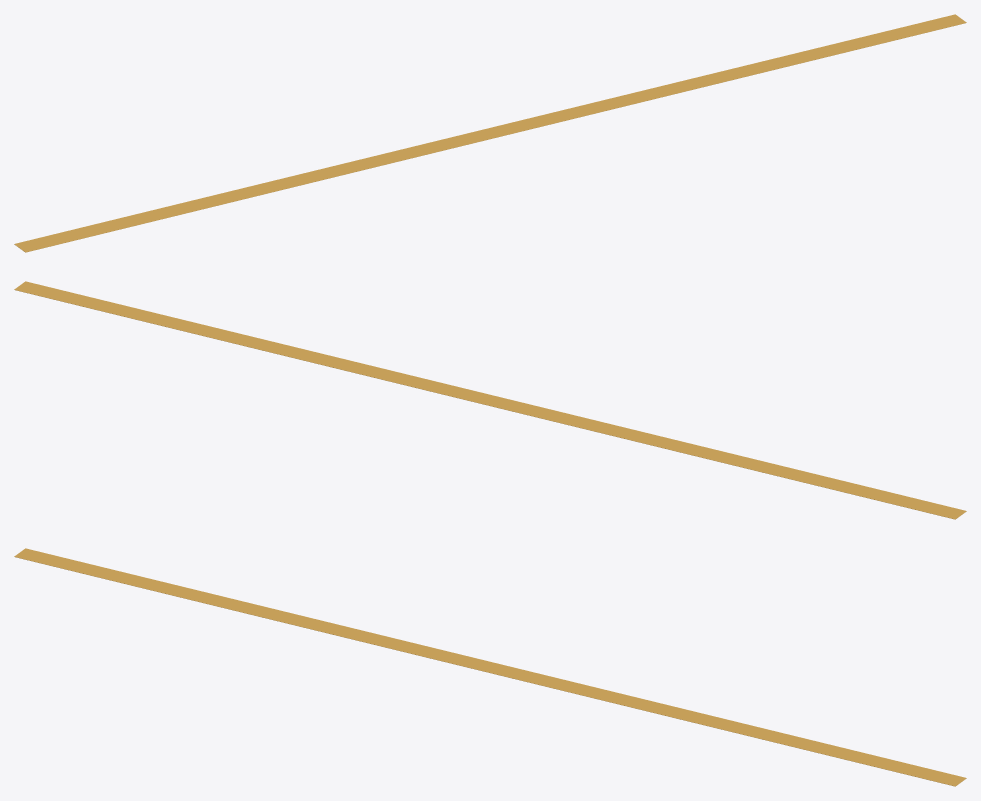
The model's file is RoadPlan_Marking_2L_L4_Center.glb.
3 renders of one model, top to bottom at view 1: azimuth 30°, elevation 25°; view 2: azimuth 150°, elevation 25°; view 3: azimuth 330°, elevation 25°, orthographic.
Visible parts, largest first — view 1: RoadPlan_Marking_2L_L4_Center; view 2: RoadPlan_Marking_2L_L4_Center; view 3: RoadPlan_Marking_2L_L4_Center.
Part boxes in pixels (x1,y1,x2,y2): RoadPlan_Marking_2L_L4_Center: (14, 14, 966, 252); RoadPlan_Marking_2L_L4_Center: (14, 281, 966, 519); RoadPlan_Marking_2L_L4_Center: (14, 548, 966, 786).
Bounding box in the file's own units: 4 × 0.0007 × 0.085.
